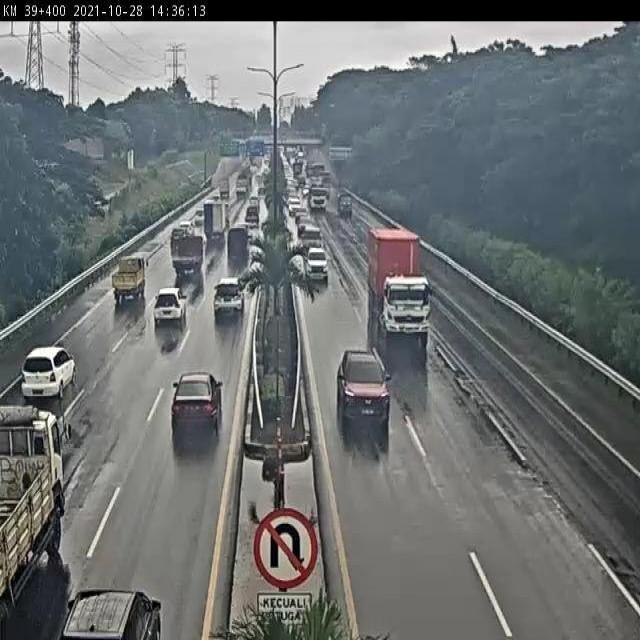big truck: (0, 406, 67, 622), (367, 228, 431, 348)
car: (336, 348, 392, 429), (18, 344, 77, 401), (169, 373, 223, 435), (209, 275, 247, 321), (153, 286, 189, 330), (224, 223, 252, 260), (304, 248, 331, 281), (302, 224, 325, 255), (168, 225, 189, 247), (177, 219, 197, 240)
small truck: (167, 233, 207, 286), (110, 255, 147, 305), (203, 200, 232, 249)
